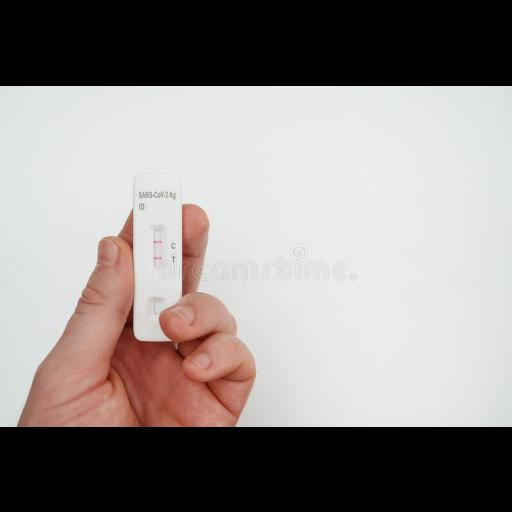Pos: (134, 172, 180, 338)
